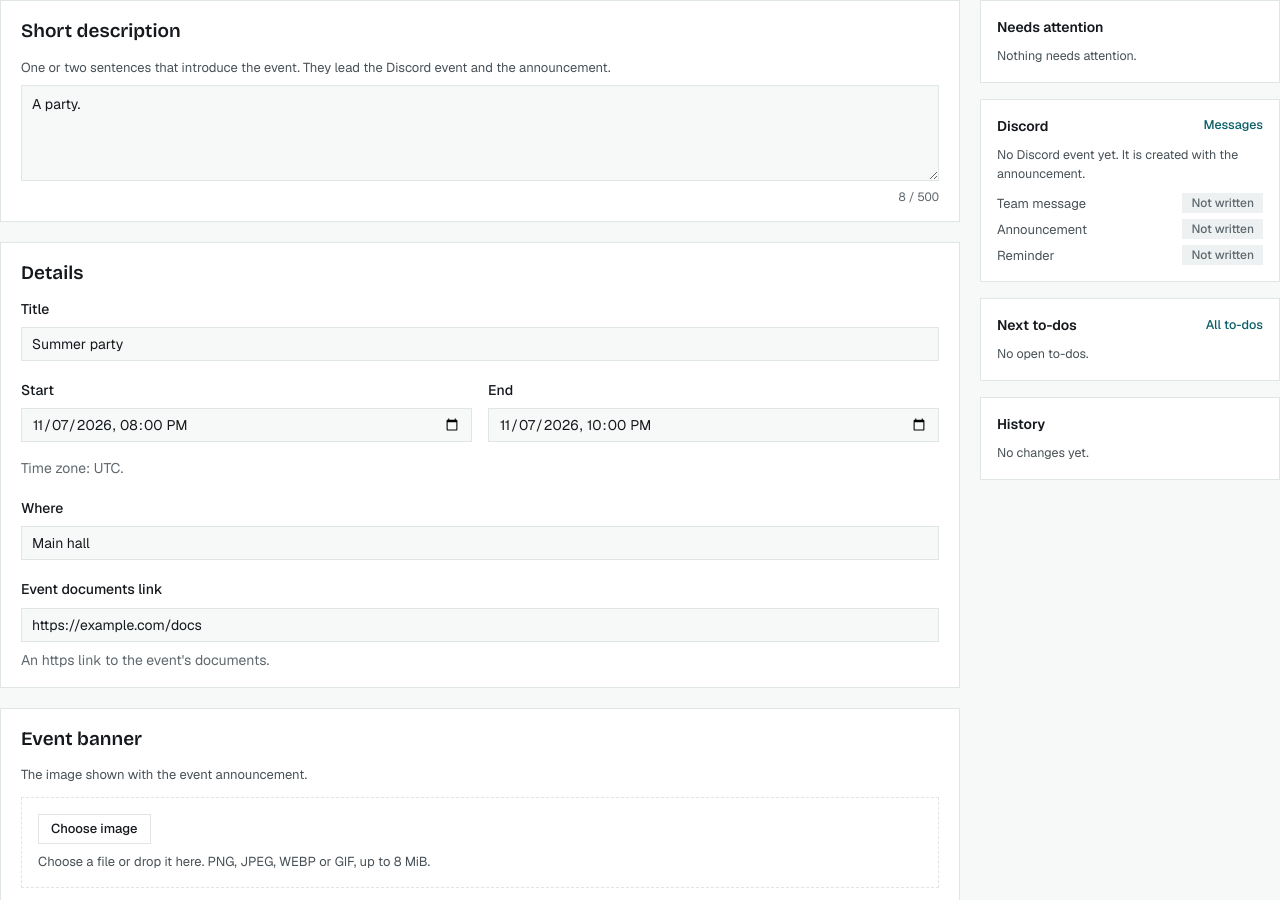
Test: RequestOverview details › refuses an end before the start
The width and height of the screenshot is (1280, 900).
Replace the text in the field labelled "End" with "2026-11-07T19:00": (714, 425) [488, 408, 939, 442]
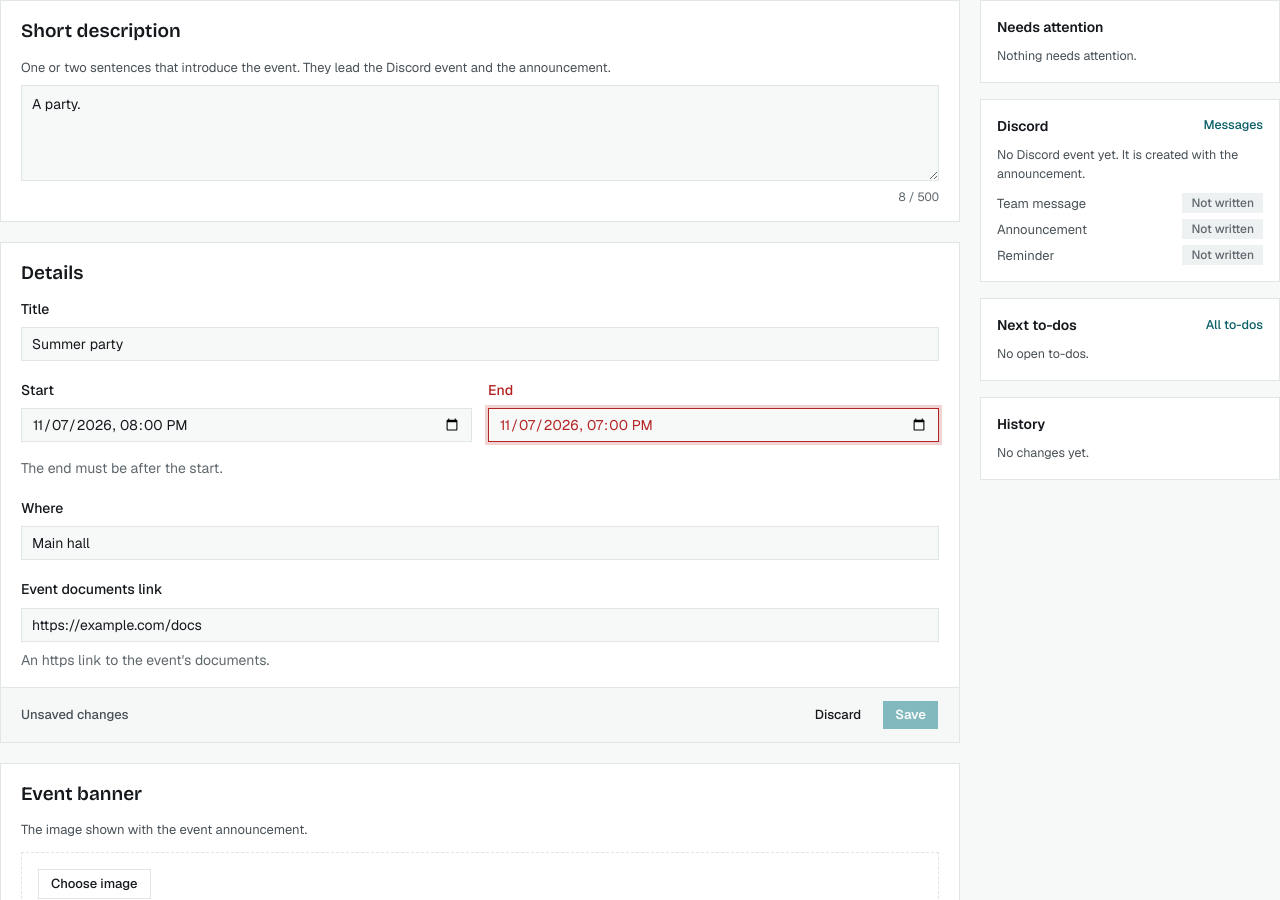
expect the text "The end must be after the start." is shown: met, box [21, 459, 222, 477]
expect the button "Save" is disabled: met, box [882, 700, 939, 730]
